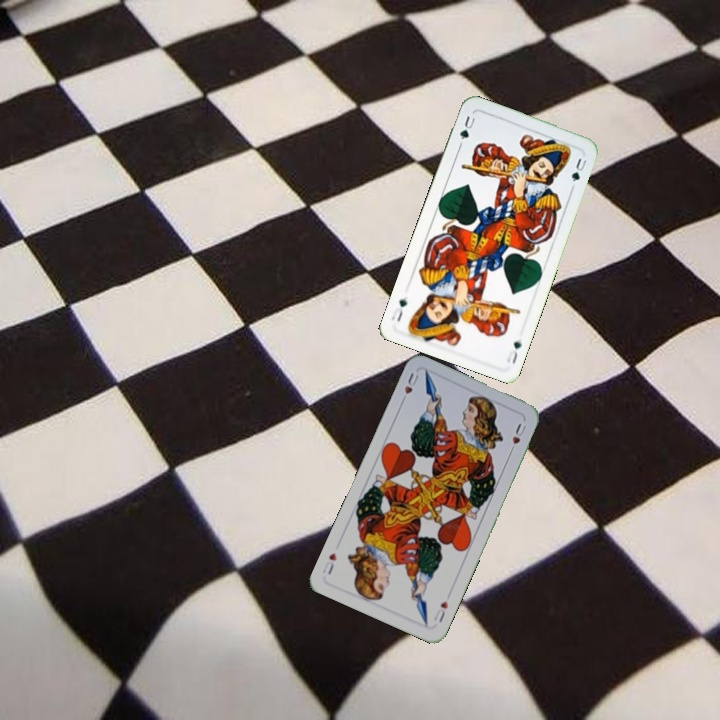GU: (456, 112, 478, 142), (502, 337, 524, 367)
HU: (397, 369, 421, 406), (430, 596, 451, 625)
